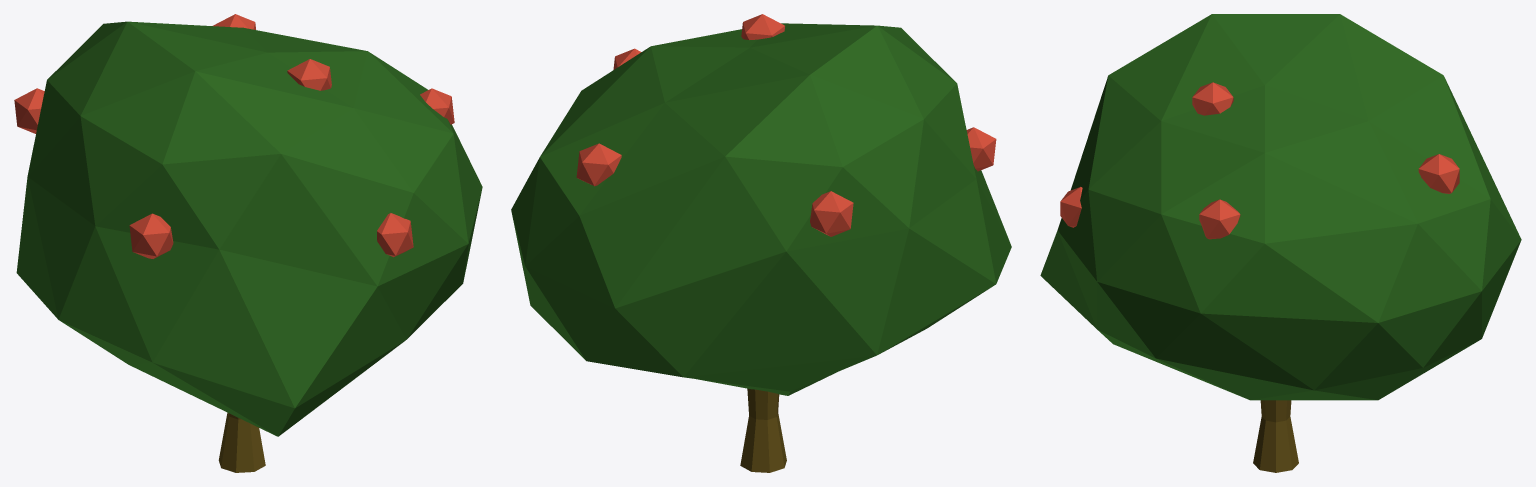
The model's file is Bush3.2.fbx.
3 views of the same model, side by side, from view 1: azimuth 30°, elevation 25°; view 2: azimuth 150°, elevation 25°; view 3: azimuth 270°, elevation 25° (orthographic). The views are drawn at different scales.
Parts seen in each view (by area): view 1: Bush3.2; view 2: Bush3.2; view 3: Bush3.2.
Part boxes in pixels (x1,y1,x2,y2): Bush3.2: (14,14,482,472); Bush3.2: (511,14,1011,472); Bush3.2: (1040,14,1521,472).
Size of the model in its own units: 115 by 117 by 124.
